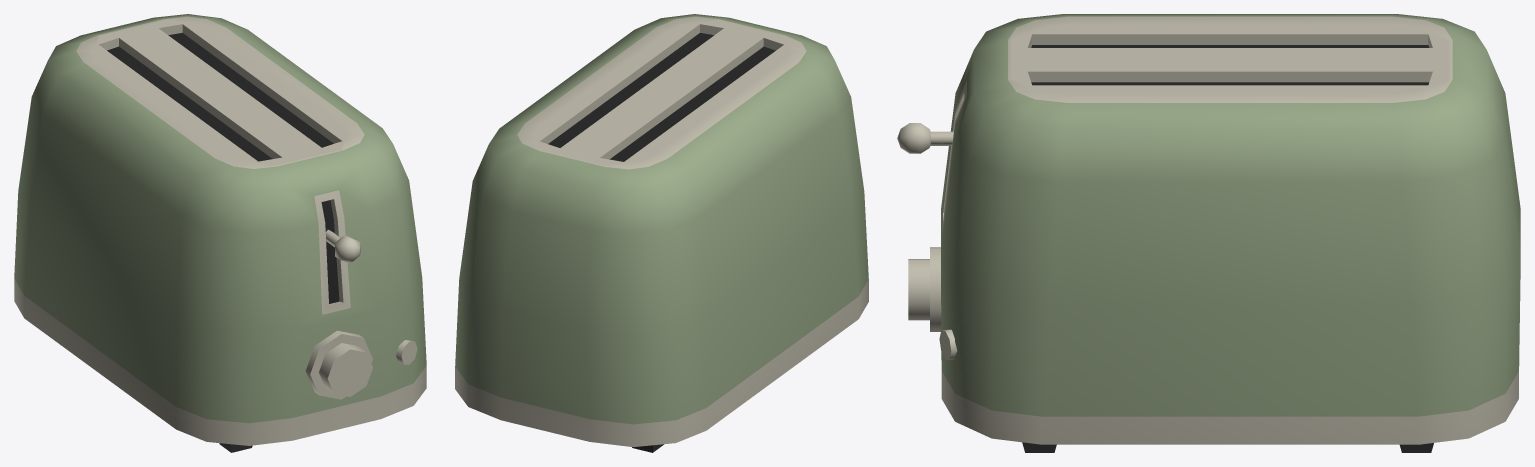
File: Toaster_01.fbx
The picture shows the model from 3 angles, left to right: view 1: azimuth 30°, elevation 25°; view 2: azimuth 150°, elevation 25°; view 3: azimuth 270°, elevation 25°; orthographic projection. The views are drawn at different scales.
Visible parts, largest first — view 1: Toaster_01; view 2: Toaster_01; view 3: Toaster_01.
Boxes of the visible parts, left/top/right/bottom form: Toaster_01: left=14, top=14, right=426, bottom=452; Toaster_01: left=455, top=14, right=868, bottom=452; Toaster_01: left=897, top=14, right=1520, bottom=452.
Bounding box in the file's own units: 0.1983 × 0.2222 × 0.3592.
